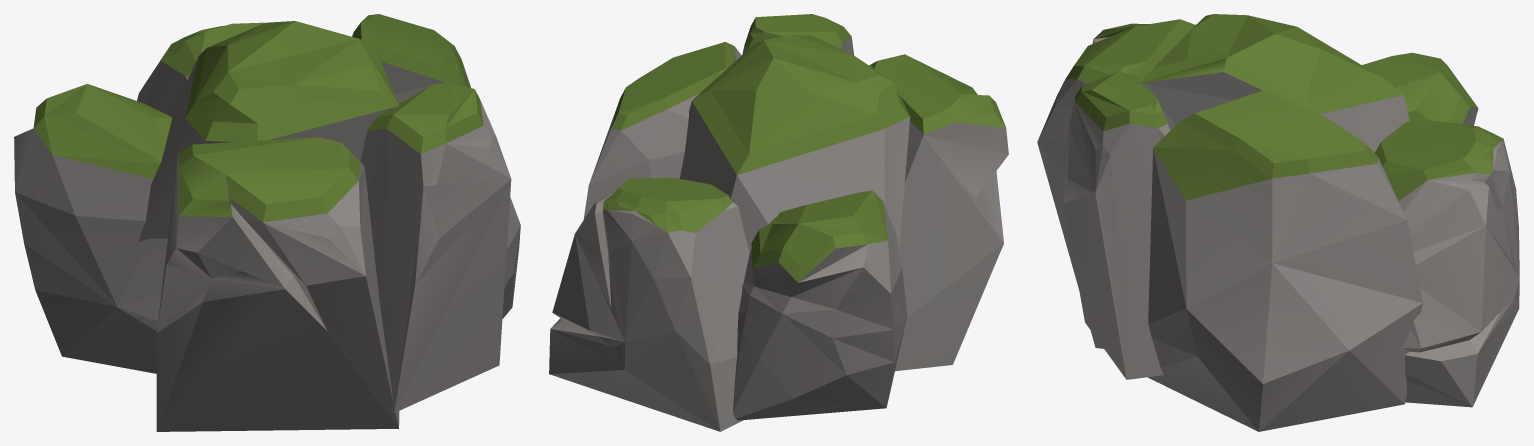
The model's file is RockStack_2.fbx.
3 views of the same model, side by side, from view 1: azimuth 30°, elevation 25°; view 2: azimuth 150°, elevation 25°; view 3: azimuth 270°, elevation 25° (orthographic). The views are drawn at different scales.
Parts seen in each view (by area): view 1: RockStack_2; view 2: RockStack_2; view 3: RockStack_2.
Part boxes in pixels (x1,y1,x2,y2): RockStack_2: (14,14,520,431); RockStack_2: (549,14,1008,431); RockStack_2: (1037,14,1519,431).
Bounding box in the file's own units: 165 × 127 × 176.
